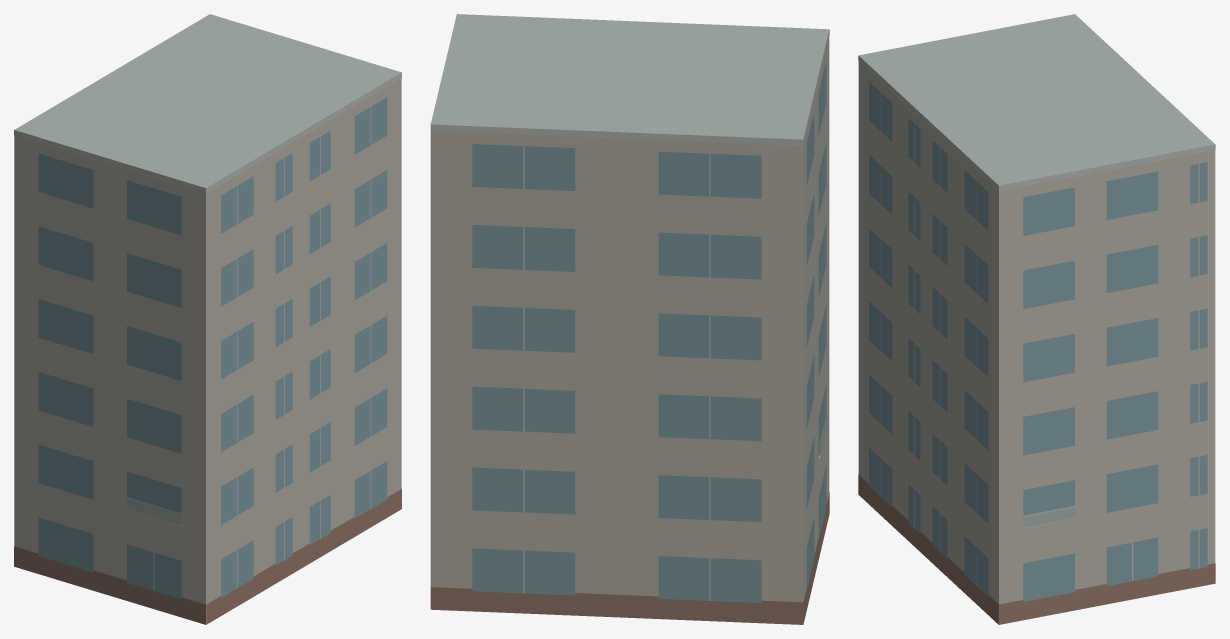
Rendered from survey-upis-33038186.glb.
3 renders of one model, left to right at view 1: azimuth 30°, elevation 25°; view 2: azimuth 150°, elevation 25°; view 3: azimuth 270°, elevation 25°, orthographic. The views are drawn at different scales.
Visible parts, largest first — view 1: survey-upis-33038186.tmp; view 2: survey-upis-33038186.tmp; view 3: survey-upis-33038186.tmp.
Part boxes in pixels (x1,y1,x2,y2): survey-upis-33038186.tmp: (14,14,401,624); survey-upis-33038186.tmp: (430,14,829,624); survey-upis-33038186.tmp: (858,14,1215,624).
Size of the model in its own units: 15.35 by 18.3 by 13.49.
